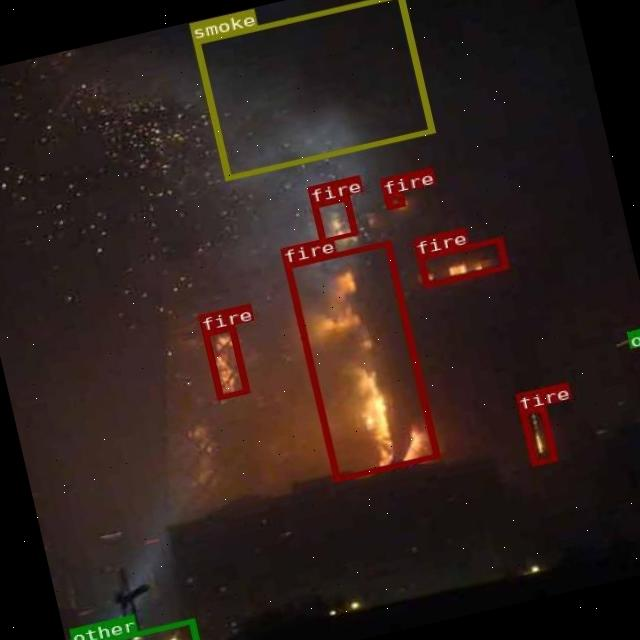fire: (284, 240, 438, 480), (415, 235, 507, 288), (202, 325, 248, 398), (518, 404, 556, 465), (310, 195, 356, 242), (382, 190, 404, 210)
smoke: (191, 0, 433, 180)
